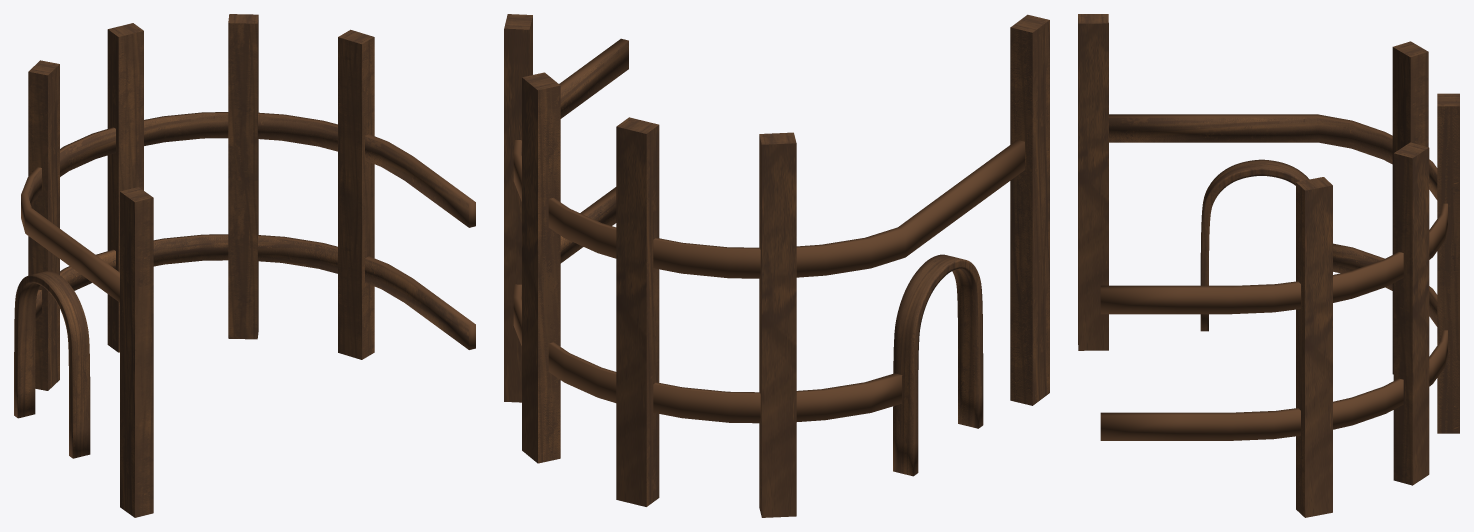
The model's file is SecondShop_WoodenPillars.glb.
The picture shows the model from 3 angles, left to right: view 1: azimuth 30°, elevation 25°; view 2: azimuth 150°, elevation 25°; view 3: azimuth 270°, elevation 25°; orthographic projection. The views are drawn at different scales.
Parts seen in each view (by area): view 1: WoodBars_SecondShop; view 2: WoodBars_SecondShop; view 3: WoodBars_SecondShop.
Part boxes in pixels (x1=…): WoodBars_SecondShop: x1=14, y1=14, x2=475, y2=517; WoodBars_SecondShop: x1=504, y1=14, x2=1049, y2=517; WoodBars_SecondShop: x1=1078, y1=14, x2=1459, y2=517.
Bounding box in the file's own units: 2.59 × 2.2 × 2.33.
1 material, 1 textured.
